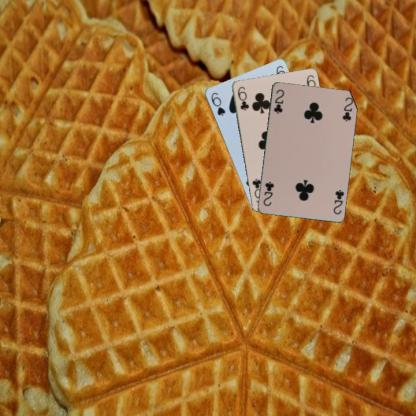2c: (330, 187, 345, 216), (271, 87, 285, 115)
6c: (235, 84, 250, 111)
6s: (208, 90, 226, 116)
